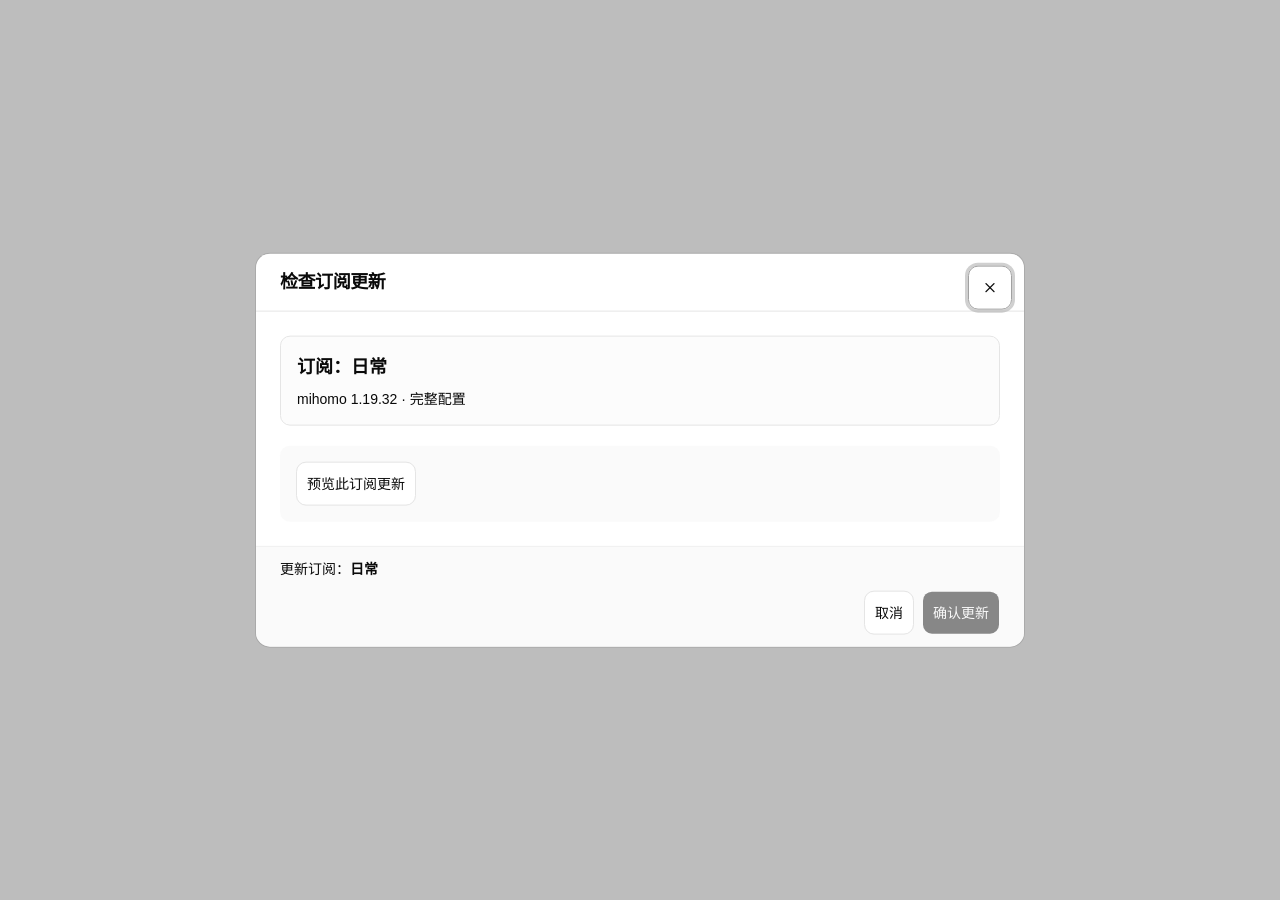
Test case: keeps the reviewed unchanged URL and other-subscription scope visible before confirming one update
Check: the text "链接不变，其他订阅不受影响。" is not shown
Check: the text "mihomo 1.19.32 · 完整配置" is shown, box [297, 390, 466, 406]
Click the button "预览此订阅更新". click: (356, 483)
box: [296, 461, 416, 505]
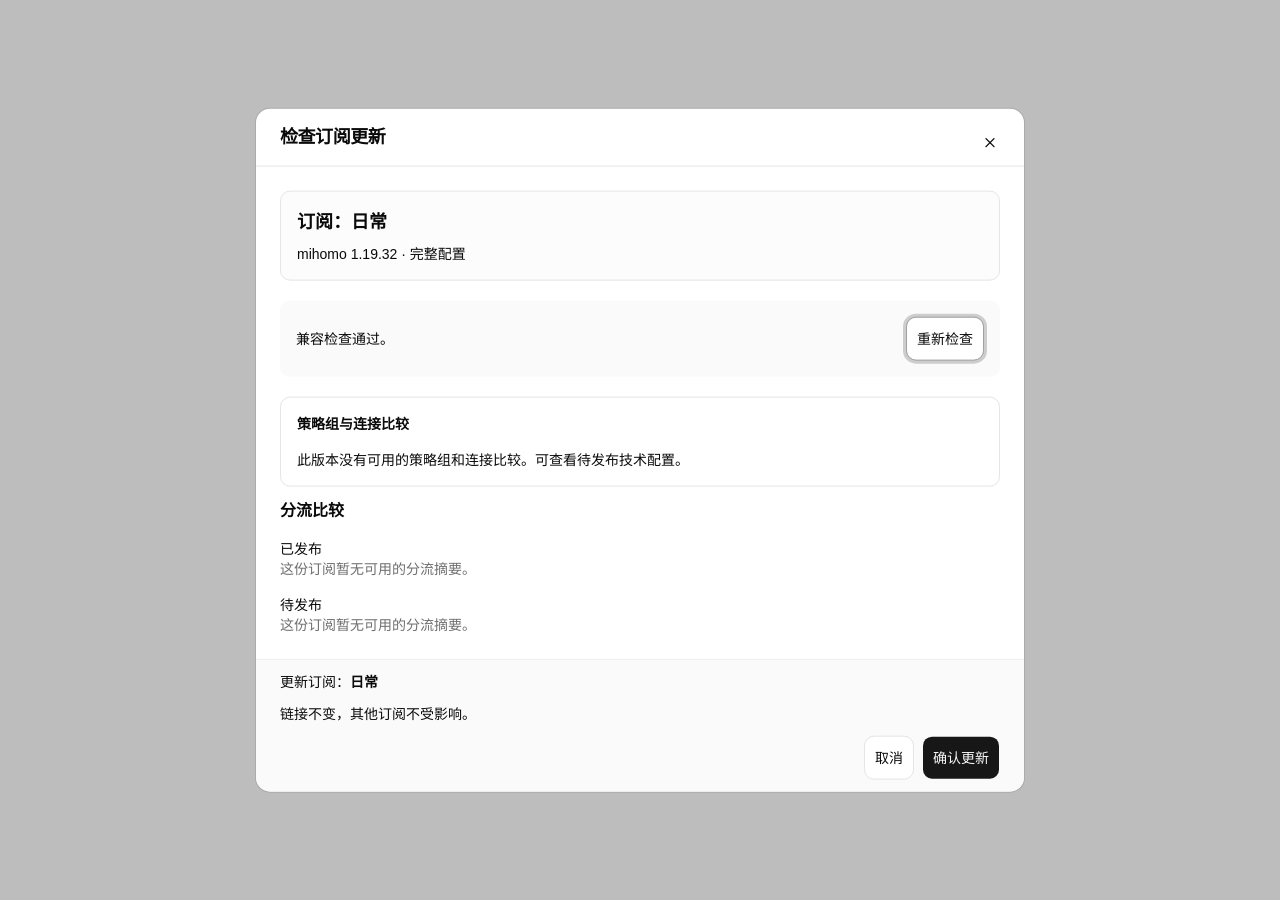
Check: the button with aria-label "确认更新「日常」" is enabled, box [922, 735, 1000, 779]
